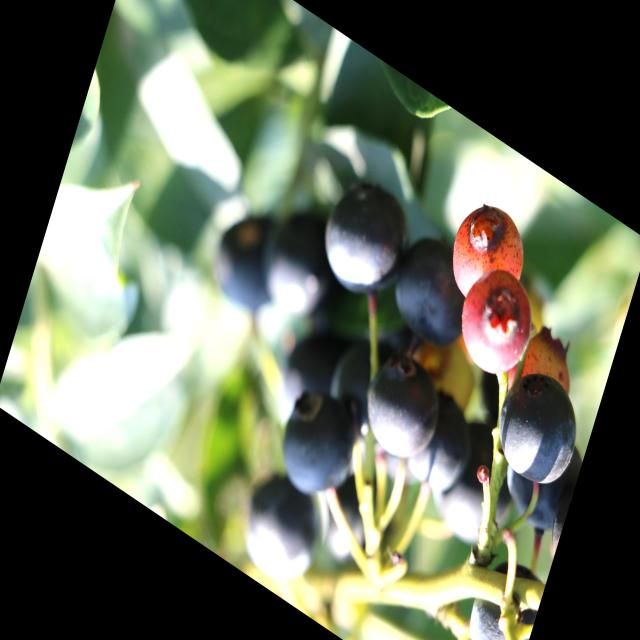blueberry: (304, 151, 429, 325), (423, 395, 534, 567), (245, 186, 358, 348), (482, 346, 594, 508), (378, 210, 489, 371), (228, 446, 336, 600), (351, 331, 455, 484), (265, 381, 369, 527), (204, 182, 299, 334), (489, 404, 586, 549), (398, 374, 487, 513), (313, 451, 400, 590), (270, 299, 356, 437), (317, 312, 399, 444), (451, 531, 549, 640)
blueberry-halfripe: (444, 190, 536, 326), (450, 255, 540, 392), (514, 321, 580, 406)
